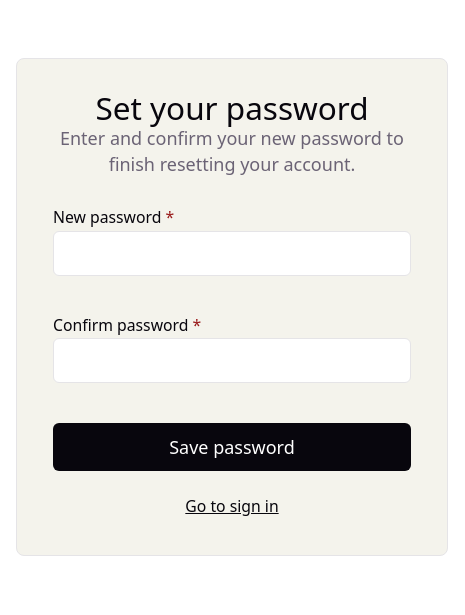
ChangePasswordPage › shows API error when password change fails
In the password field labelled "New password *": x=232, y=253 [53, 230, 411, 276], type "validpass1"
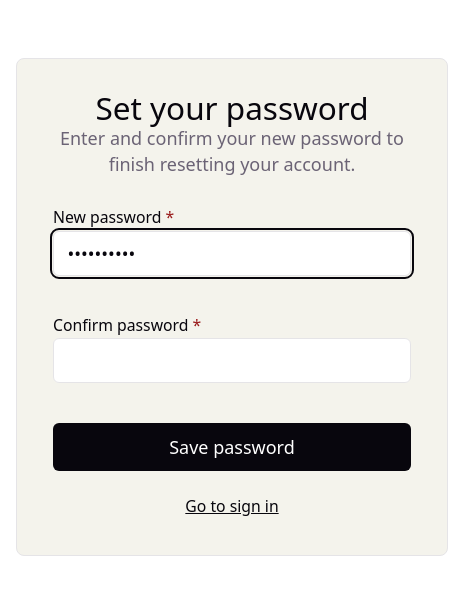
In the password field labelled "Confirm password *": x=232, y=360 [53, 338, 411, 383], type "validpass1"
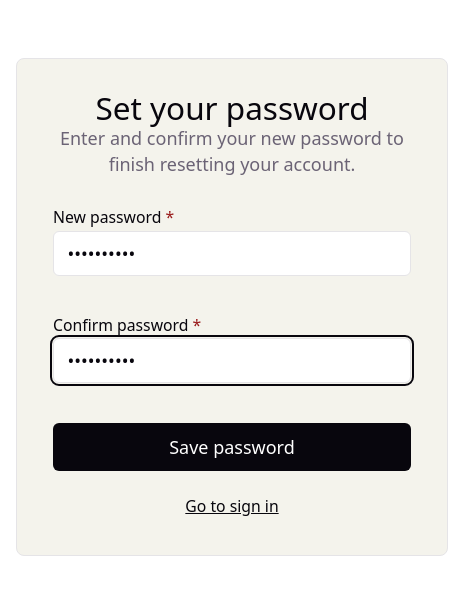
Click the button "Save password": x=232, y=447 [53, 423, 411, 471]
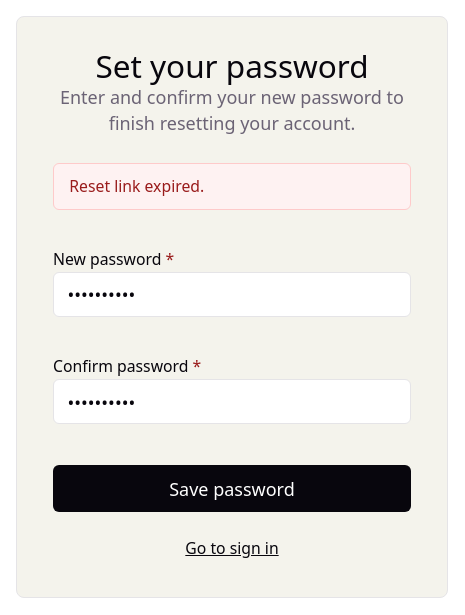
Expected: the text "Reset link expired." is shown, [53, 163, 411, 210]
